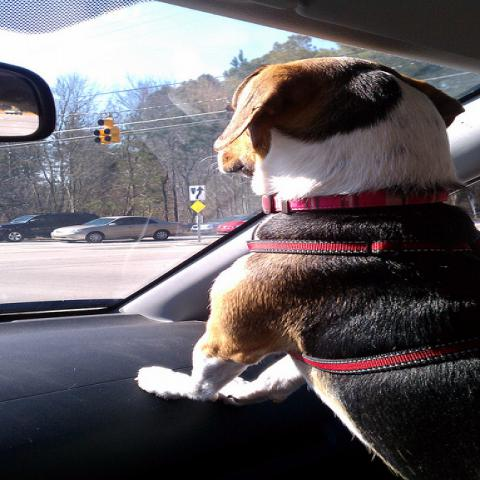car: (48, 215, 187, 242), (0, 211, 99, 244), (215, 214, 260, 235), (191, 216, 240, 234)
